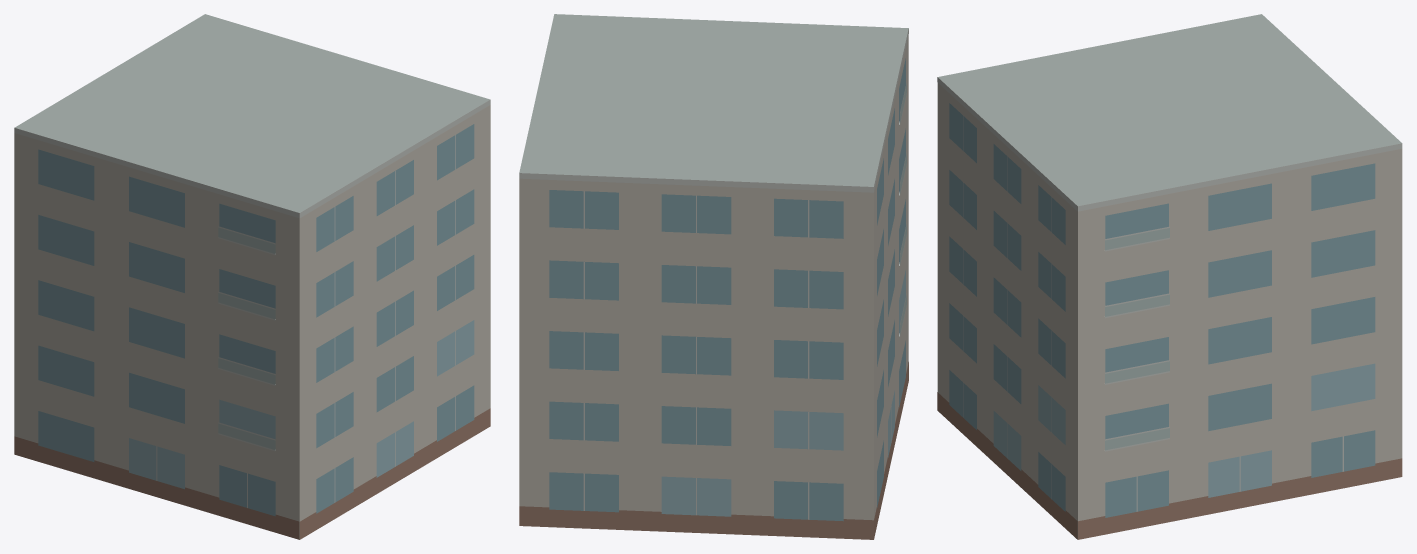
Rendered from residential-637a68a5-d072-4f7d-980a-b4ff096195f3.glb.
3 renders of one model, left to right at view 1: azimuth 30°, elevation 25°; view 2: azimuth 150°, elevation 25°; view 3: azimuth 270°, elevation 25°, orthographic. The views are drawn at different scales.
Visible parts, largest first — view 1: residential-637a68a5-d072-4f7d-980a-b4ff096195f3.tmp; view 2: residential-637a68a5-d072-4f7d-980a-b4ff096195f3.tmp; view 3: residential-637a68a5-d072-4f7d-980a-b4ff096195f3.tmp.
Part boxes in pixels (box(x1,y1,x2,y2)): residential-637a68a5-d072-4f7d-980a-b4ff096195f3.tmp: box(14, 14, 490, 539); residential-637a68a5-d072-4f7d-980a-b4ff096195f3.tmp: box(519, 14, 908, 539); residential-637a68a5-d072-4f7d-980a-b4ff096195f3.tmp: box(937, 14, 1402, 539).
Bounding box in the file's own units: 18.87 × 15.25 × 19.27.
